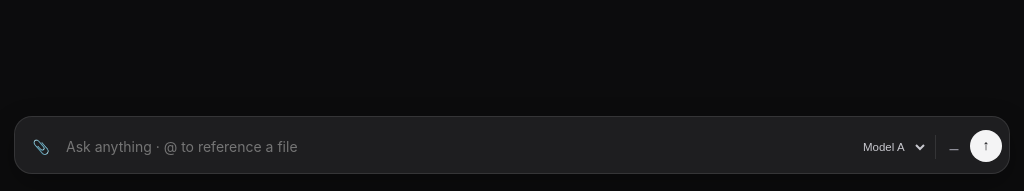
Test: routes each prompt and shows the profile the server chose
The width and height of the screenshot is (1024, 191).
Step 1. Type "Proofread this paragraph" into the text box named "AI Chat Prompt" → (454, 147), box [61, 129, 848, 165]
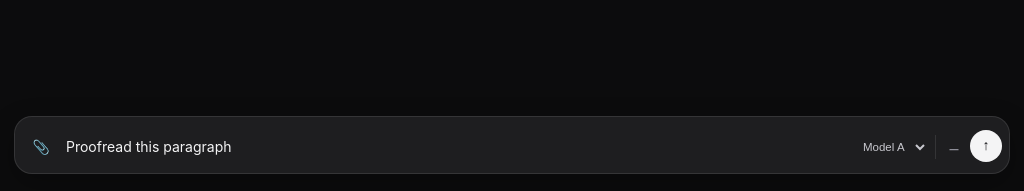
Step 2. Click the button named "Send Prompt" → (986, 146), box [970, 130, 1002, 162]
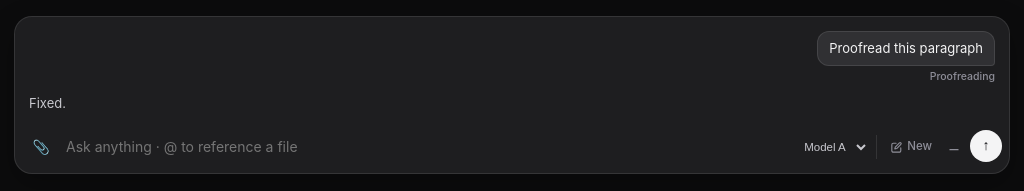
expect the text with test id "chat-routed-profile" reads "Proofreading": met, box [930, 70, 995, 83]
